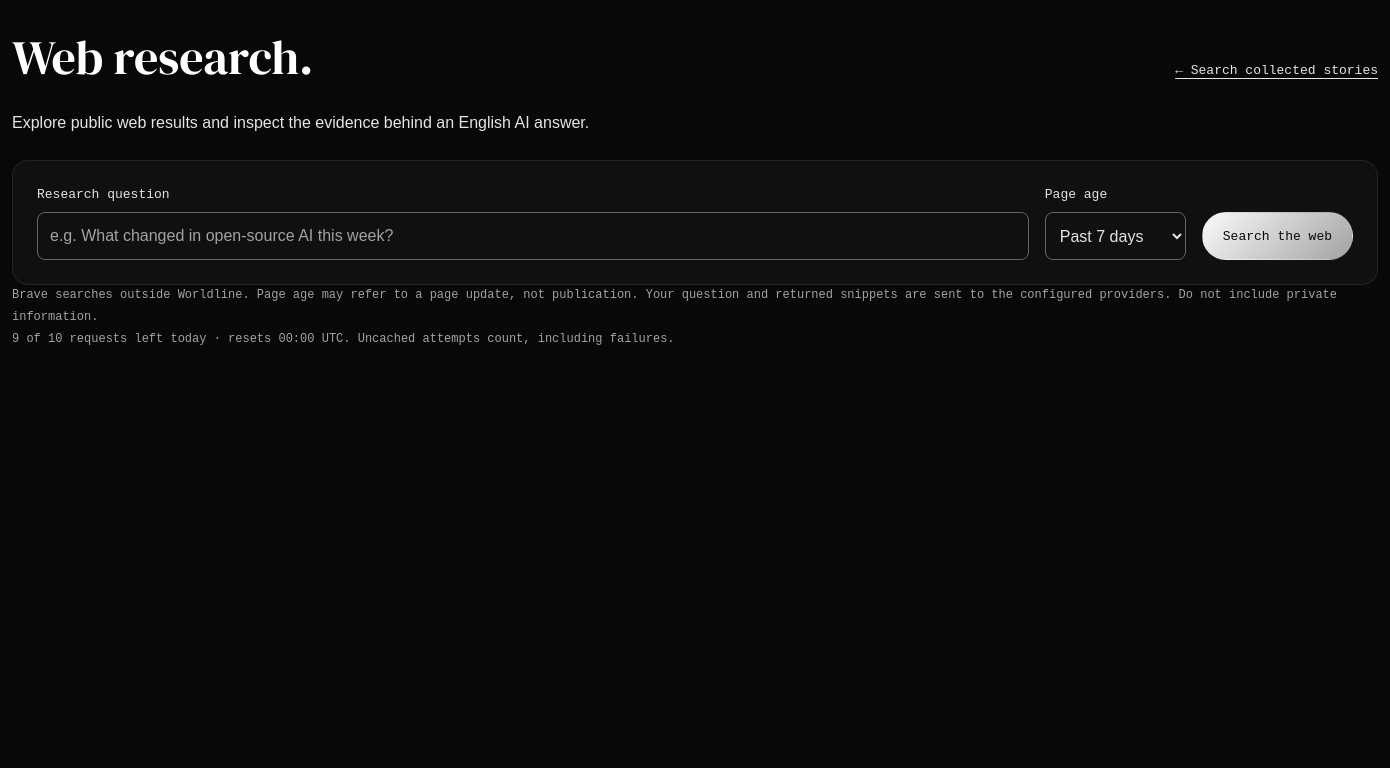
submits explicitly with CSRF and shows evidence links and actual retrieval time
In the field labelled "Research question": (533, 236) [37,212,1029,260], type "What does the trial show?"
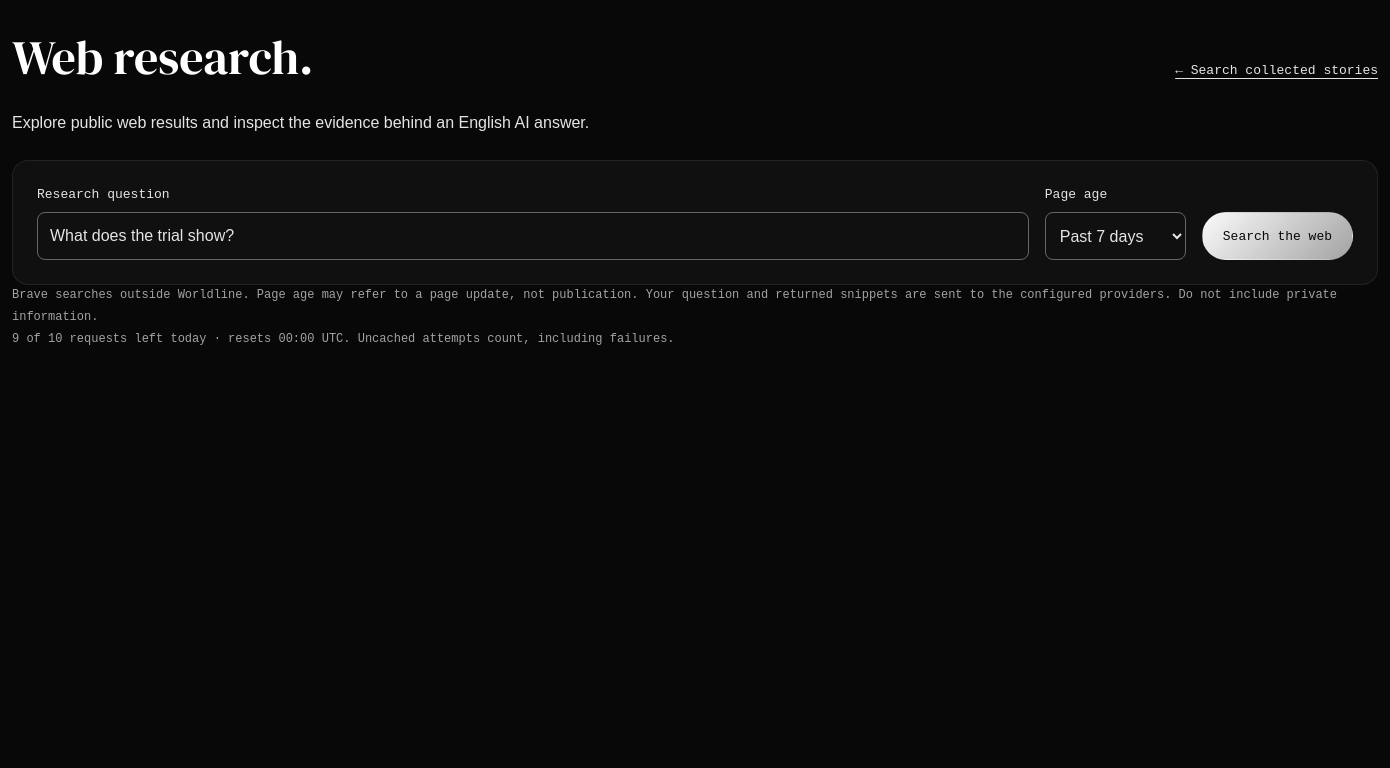
Click the button "Search the web": (1277, 236) [1202,212,1353,260]
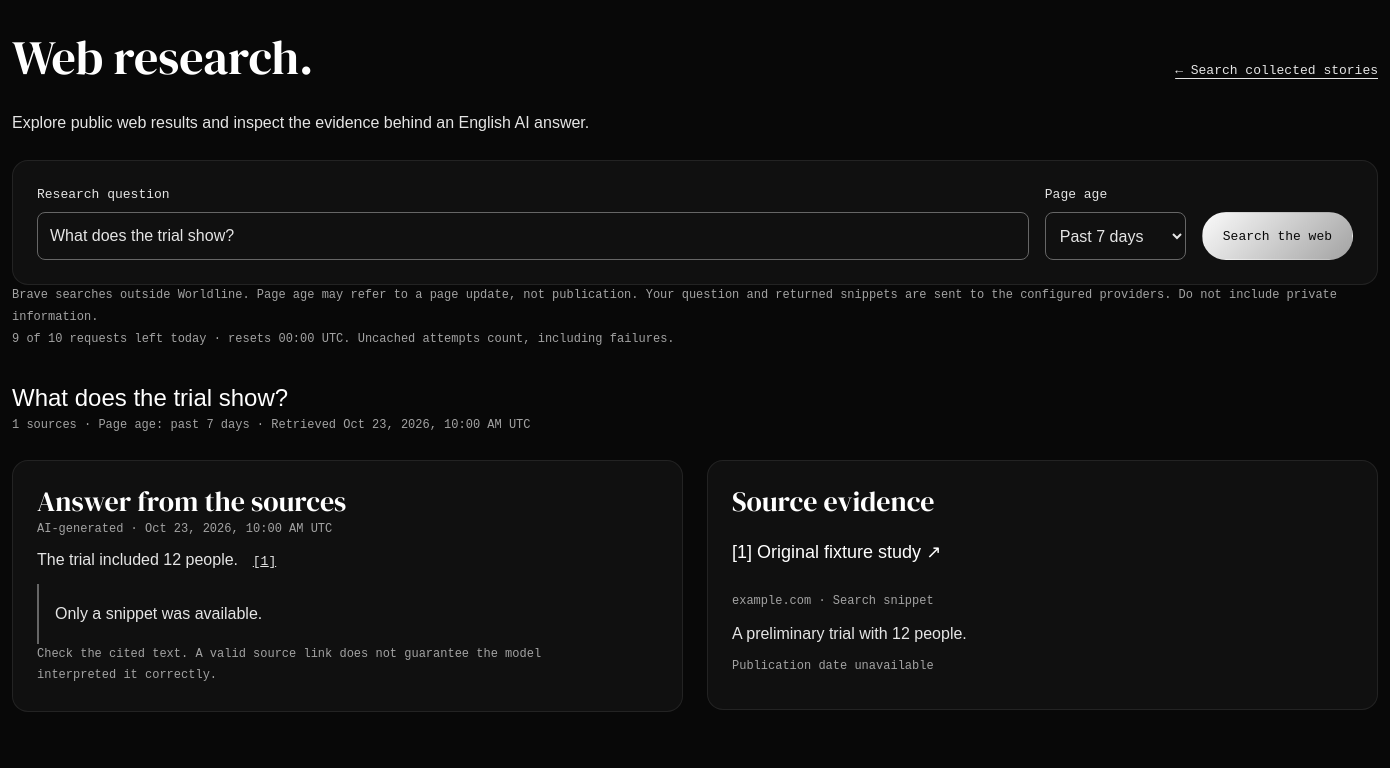
Now the text "The trial included 12 people." is shown, box [37,551,238,568]
Now the text "Retrieved Oct 23, 2026" is shown, box [250,418,531,432]
Now the text "Publication date unavailable" is shown, box [732,659,934,673]
